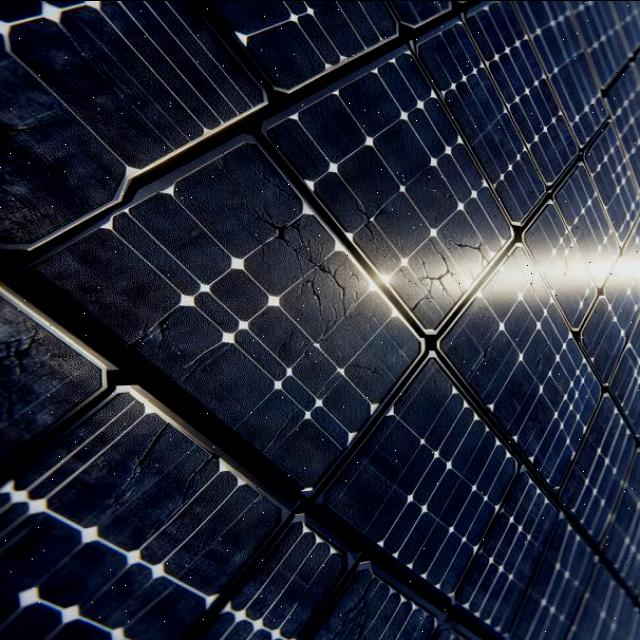Anomaly Solar Panel: (35, 82, 462, 493), (267, 26, 557, 331), (320, 349, 559, 595), (422, 243, 640, 489), (518, 200, 612, 329)
Structural Damage: (247, 180, 334, 271), (399, 233, 465, 310), (116, 417, 175, 496), (356, 191, 414, 269), (316, 253, 371, 326), (132, 294, 189, 358), (0, 320, 45, 395), (174, 446, 221, 503), (247, 157, 305, 203), (443, 221, 499, 268), (332, 581, 376, 640), (0, 102, 32, 180), (319, 302, 343, 343), (308, 272, 330, 315), (398, 265, 425, 291), (348, 261, 365, 301), (347, 361, 383, 373), (424, 184, 454, 197), (295, 223, 311, 247), (529, 268, 538, 292), (473, 309, 494, 319), (565, 254, 571, 274)
